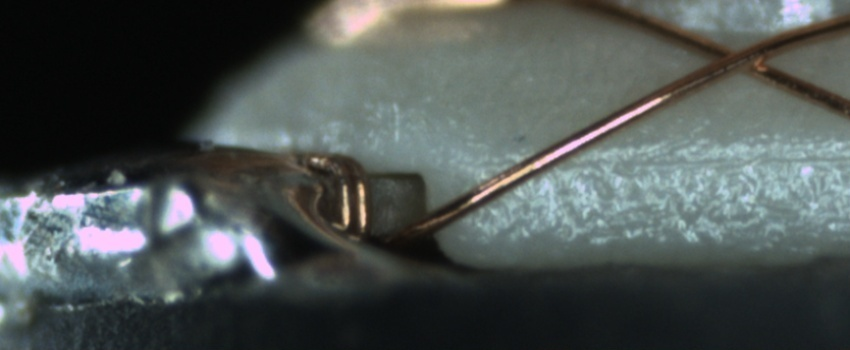CL: (697, 31, 788, 83)
DL: (482, 131, 849, 190)
TE: (288, 144, 375, 243)
